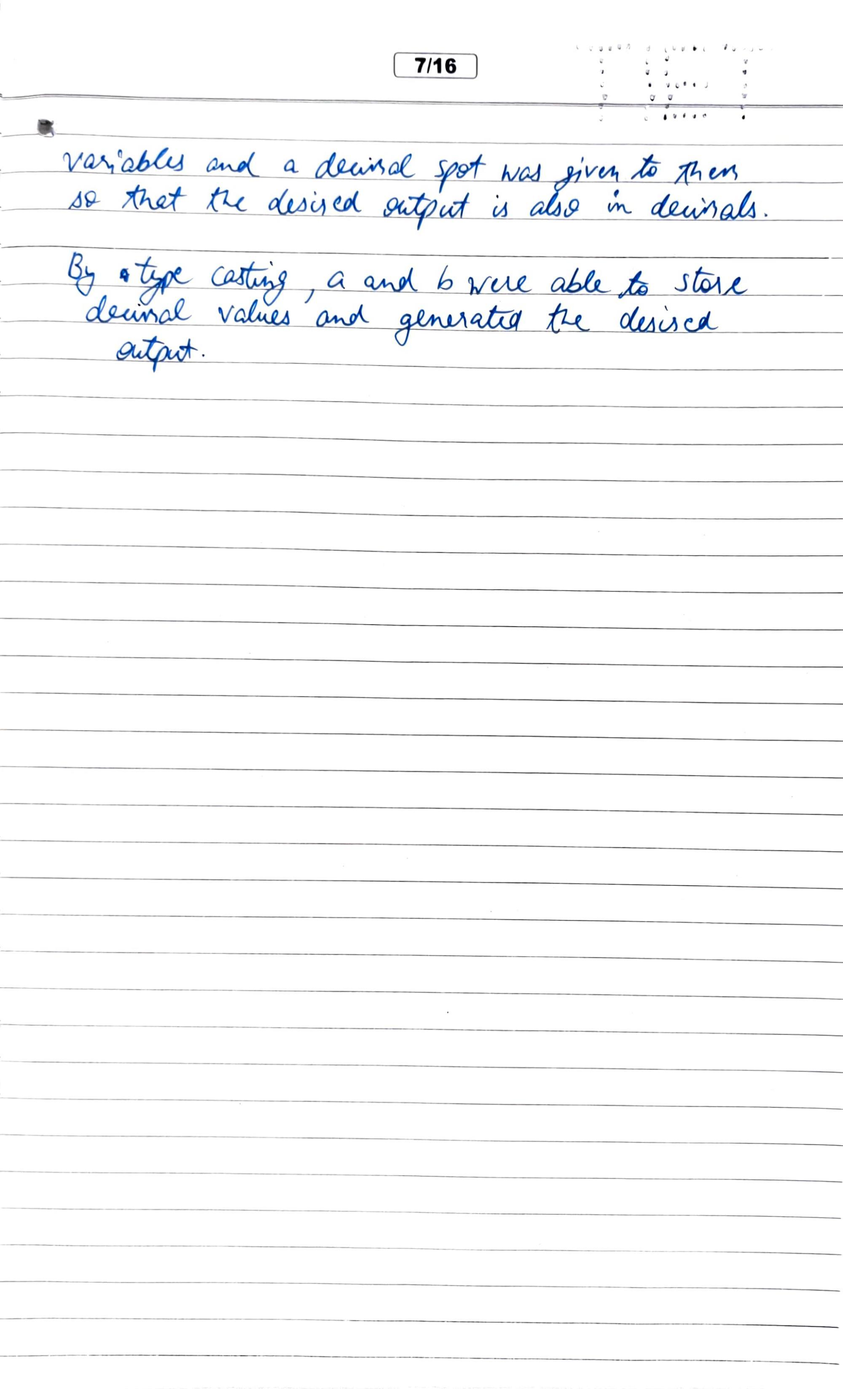cuttings: (118, 267, 131, 284)
